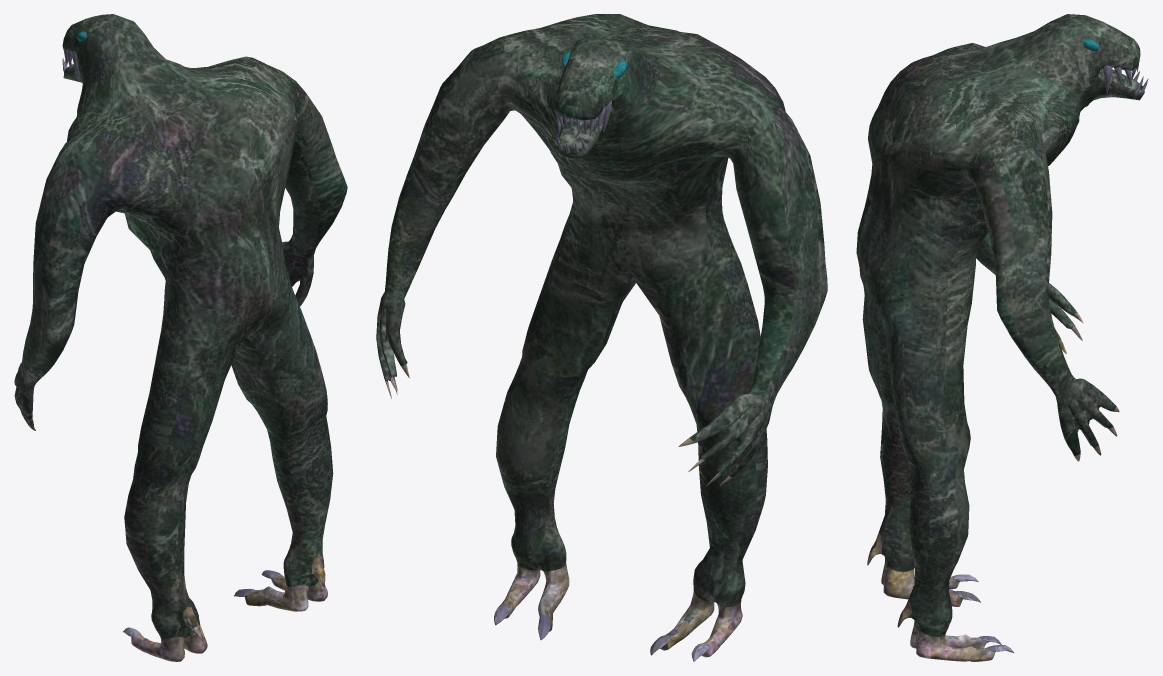
Rendered from Aranar.0018.obj.
The picture shows the model from 3 angles, left to right: view 1: azimuth 30°, elevation 25°; view 2: azimuth 150°, elevation 25°; view 3: azimuth 270°, elevation 25°; orthographic projection. The views are drawn at different scales.
Parts seen in each view (by area): view 1: polySurface28; view 2: polySurface28; view 3: polySurface28.
Part boxes in pixels (x1,y1,x2,y2): polySurface28: (14, 14, 347, 661); polySurface28: (376, 14, 827, 661); polySurface28: (856, 14, 1148, 661).
Bounding box in the file's own units: 1.36 × 2.26 × 1.02.
4 materials, 4 textured.
